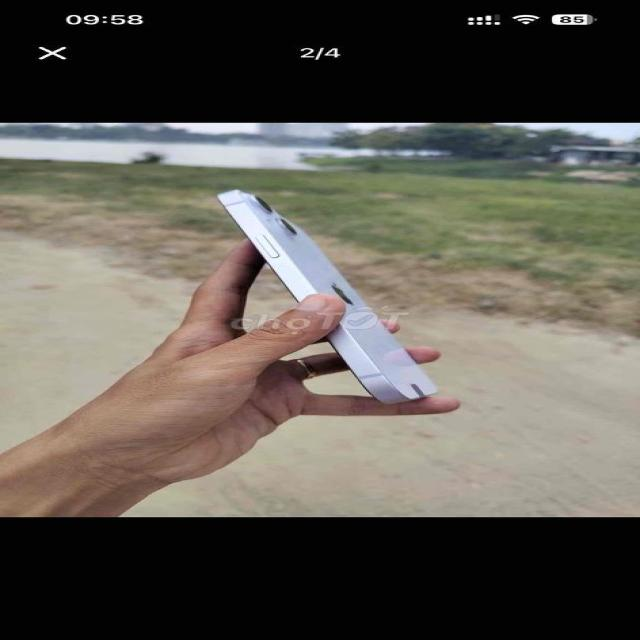gen_14: (215, 188, 460, 409)
